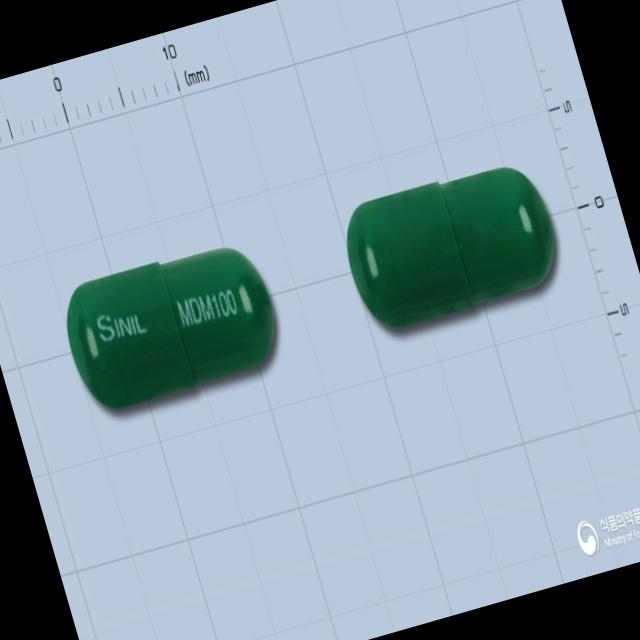Monodoxy-M Cap- Sinil: (53, 235, 290, 422)
